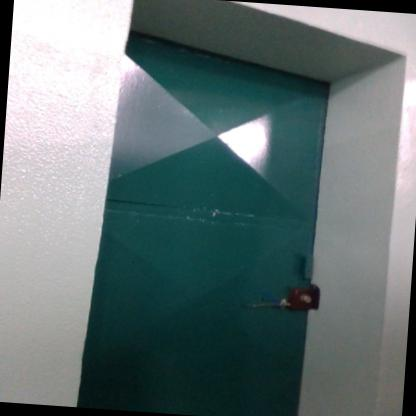closed: (94, 12, 398, 415)
